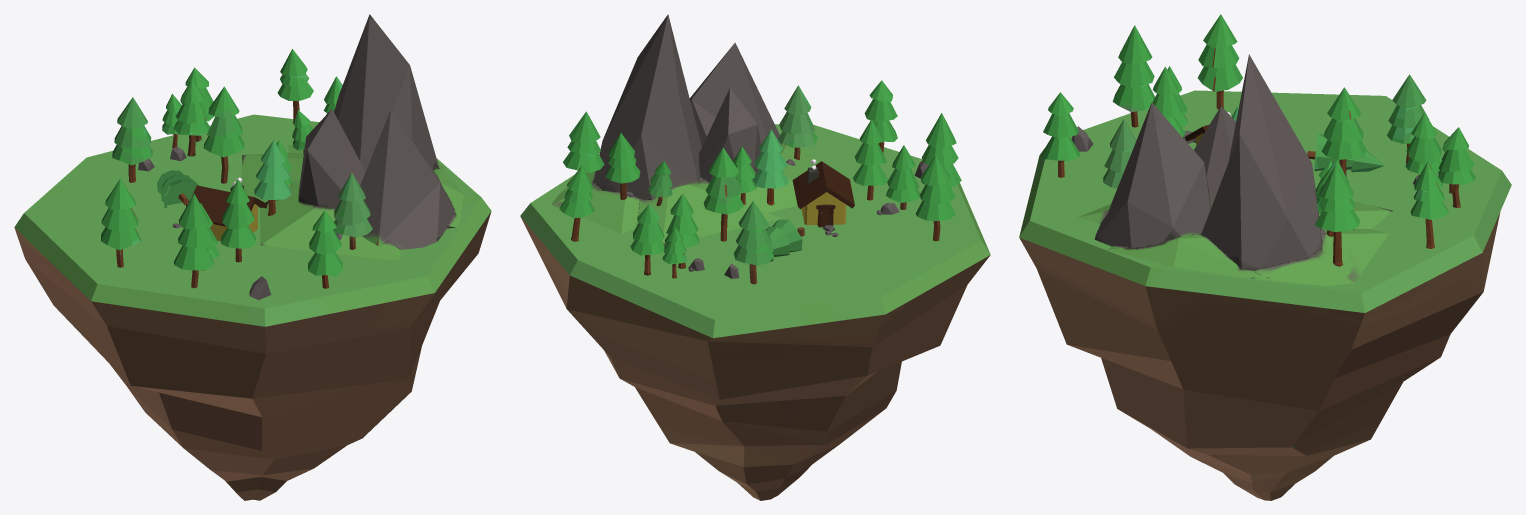
Rendered from floating_sky_island.glb.
The picture shows the model from 3 angles, left to right: view 1: azimuth 30°, elevation 25°; view 2: azimuth 150°, elevation 25°; view 3: azimuth 270°, elevation 25°; orthographic projection. The views are drawn at different scales.
Parts seen in each view (by area): view 1: Icosphere.002, Icosphere.001, Cylinder, Cylinder.017, Cylinder.012, Cylinder.013, Cylinder.004, Cylinder.007, Cylinder.011, Cylinder.015, Cylinder.001, Icosphere.015 (+5 smaller); view 2: Icosphere.002, Icosphere.001, Icosphere.015, Cylinder.017, Cylinder.012, Cylinder.013, Cylinder.004, Cylinder.007, Cylinder.003, Cylinder.015, Cylinder, Cylinder.008 (+9 smaller); view 3: Icosphere.002, Icosphere.001, Cylinder, Cylinder.012, Cylinder.003, Cylinder.017, Cylinder.011, Cylinder.013, Cylinder.016, Cylinder.008, Cylinder.001, Cylinder.004 (+2 smaller).
Part boxes in pixels (x1=…): Icosphere.002: x1=14, y1=14, x2=491, y2=500; Icosphere.001: x1=14, y1=114, x2=491, y2=326; Cylinder: x1=174, y1=193, x2=214, y2=288; Cylinder.017: x1=203, y1=86, x2=244, y2=183; Cylinder.012: x1=101, y1=179, x2=140, y2=267; Cylinder.013: x1=112, y1=97, x2=152, y2=182; Cylinder.004: x1=333, y1=172, x2=372, y2=249; Cylinder.007: x1=221, y1=179, x2=256, y2=262; Cylinder.011: x1=308, y1=210, x2=343, y2=288; Cylinder.015: x1=254, y1=140, x2=291, y2=215; Cylinder.001: x1=174, y1=80, x2=209, y2=156; Icosphere.015: x1=192, y1=177, x2=267, y2=241; Icosphere.002: x1=520, y1=14, x2=990, y2=500; Icosphere.001: x1=520, y1=124, x2=990, y2=338; Icosphere.015: x1=792, y1=159, x2=854, y2=227; Cylinder.017: x1=703, y1=147, x2=743, y2=241; Cylinder.012: x1=915, y1=155, x2=956, y2=241; Cylinder.013: x1=733, y1=200, x2=773, y2=284; Cylinder.004: x1=777, y1=85, x2=817, y2=159; Cylinder.007: x1=853, y1=119, x2=887, y2=200; Cylinder.003: x1=563, y1=111, x2=604, y2=172; Cylinder.015: x1=752, y1=129, x2=788, y2=205; Cylinder: x1=921, y1=113, x2=961, y2=187; Cylinder.008: x1=630, y1=204, x2=664, y2=275; Icosphere.002: x1=1019, y1=54, x2=1500, y2=500; Icosphere.001: x1=1019, y1=90, x2=1511, y2=312; Cylinder: x1=1112, y1=25, x2=1154, y2=127; Cylinder.012: x1=1197, y1=14, x2=1242, y2=109; Cylinder.003: x1=1315, y1=165, x2=1359, y2=266; Cylinder.017: x1=1321, y1=87, x2=1366, y2=176; Cylinder.011: x1=1041, y1=92, x2=1080, y2=177; Cylinder.013: x1=1387, y1=74, x2=1429, y2=164; Cylinder.016: x1=1410, y1=161, x2=1448, y2=248; Cylinder.008: x1=1438, y1=127, x2=1475, y2=207; Cylinder.001: x1=1405, y1=113, x2=1441, y2=173; Cylinder.004: x1=1103, y1=119, x2=1136, y2=188.
Bounding box in the file's own units: 259 × 284 × 254.
4 materials, 3 textured.
